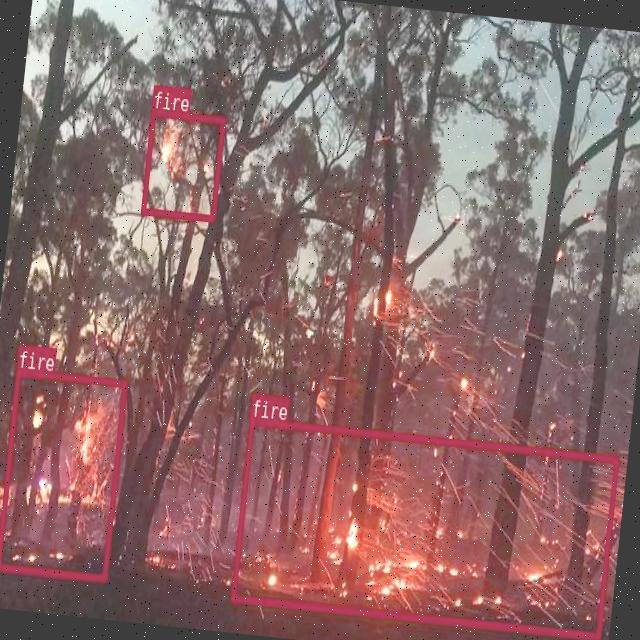fire: (230, 416, 618, 638), (0, 368, 127, 580), (140, 107, 224, 220)
